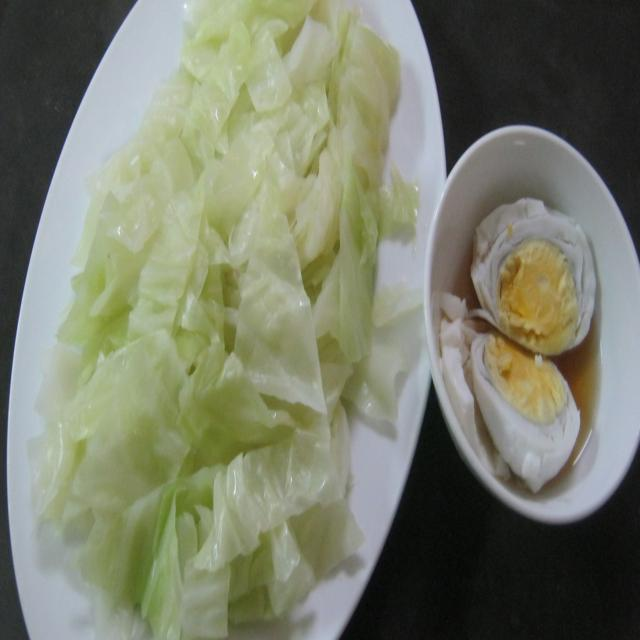rau: (35, 0, 418, 640)
trung luoc: (440, 198, 595, 492)
